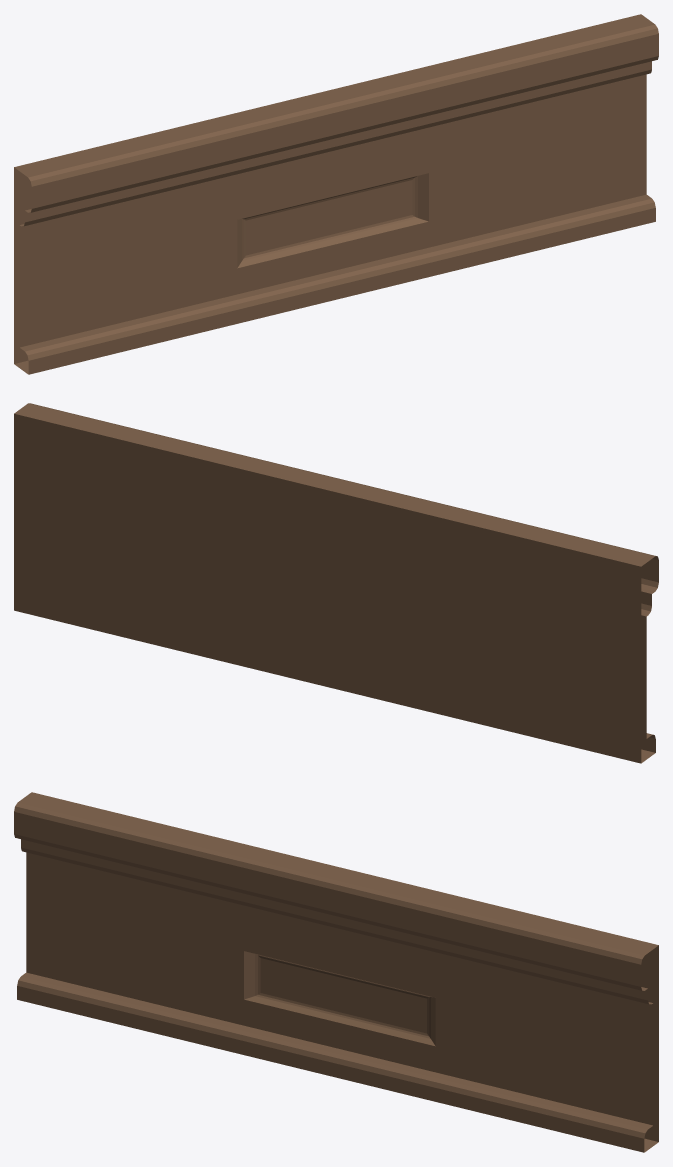
Rendered from wall_ledge_02.fbx.
3 views of the same model, one above another, from view 1: azimuth 30°, elevation 25°; view 2: azimuth 150°, elevation 25°; view 3: azimuth 330°, elevation 25° (orthographic).
Parts seen in each view (by area): view 1: wall_ledge_02; view 2: wall_ledge_02; view 3: wall_ledge_02.
Boxes of the visible parts, box(x1,y1,x2,y2) form: wall_ledge_02: box(14, 14, 658, 374); wall_ledge_02: box(14, 403, 658, 763); wall_ledge_02: box(14, 792, 658, 1152).
Size of the model in its own units: 2 by 0.0982 by 0.6.
